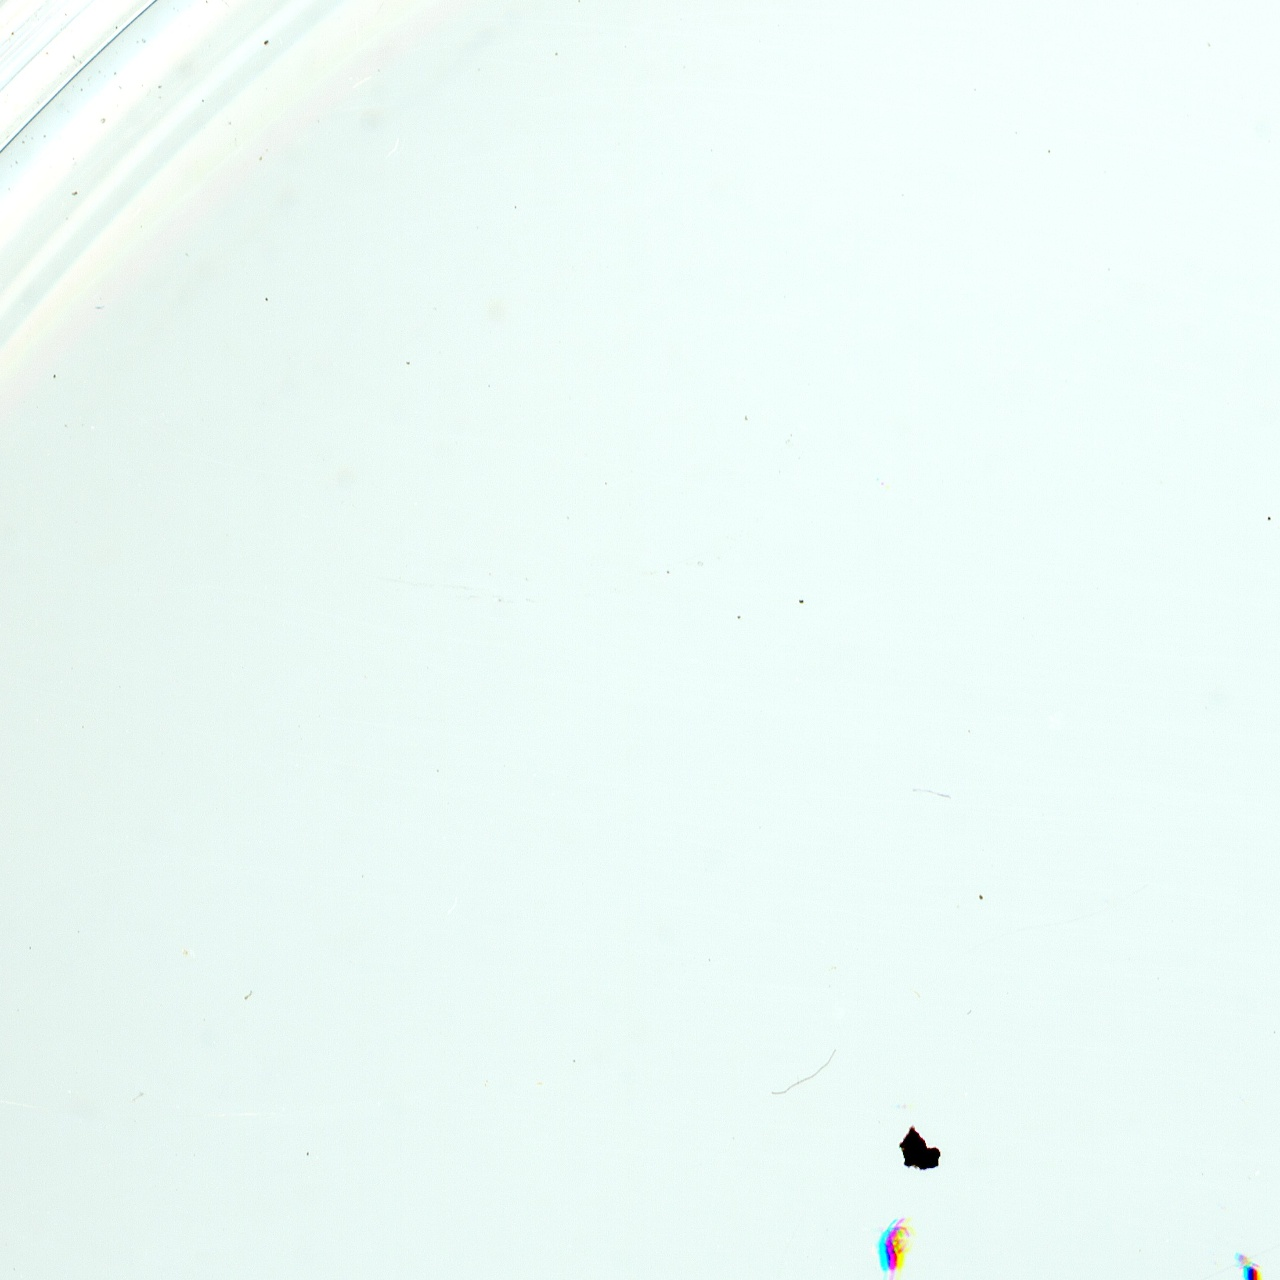arthropod: (869, 1210, 920, 1280), (1236, 1253, 1267, 1280)
